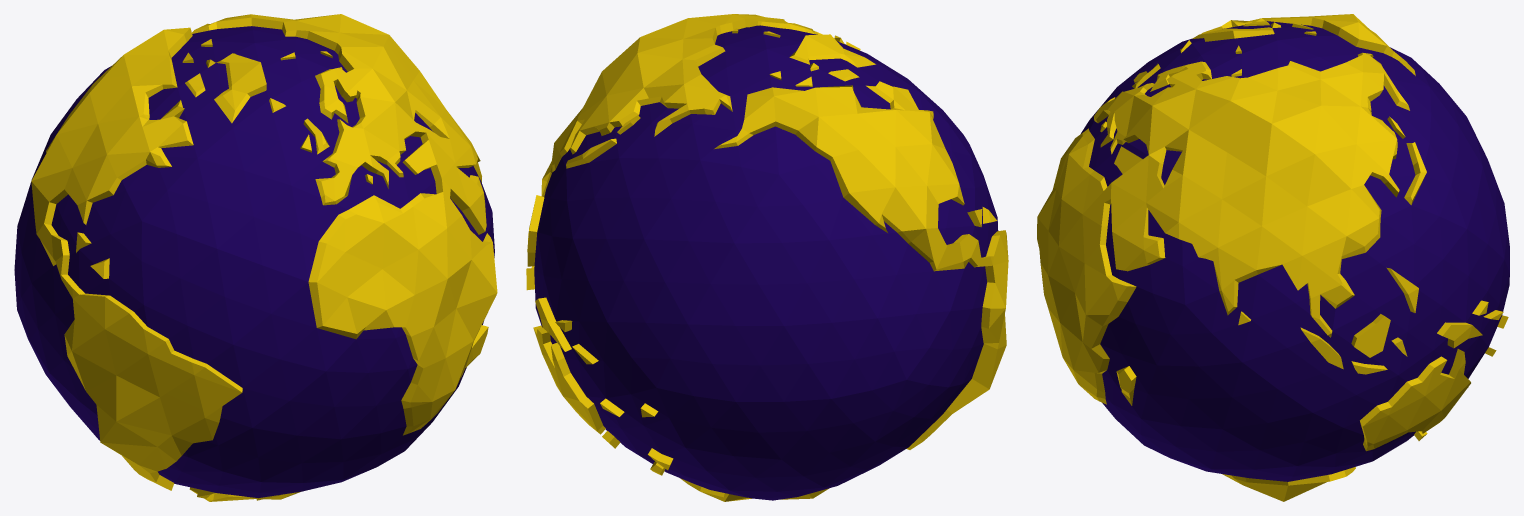
File: earth4.glb
3 views of the same model, side by side, from view 1: azimuth 30°, elevation 25°; view 2: azimuth 150°, elevation 25°; view 3: azimuth 270°, elevation 25° (orthographic). The views are drawn at different scales.
Visible parts, largest first — view 1: earth4; view 2: earth4; view 3: earth4.
Boxes of the visible parts, <box> form: earth4: <box>14,14,497,501</box>; earth4: <box>526,14,1008,501</box>; earth4: <box>1037,14,1509,501</box>.
Bounding box in the file's own units: 0.1733 × 0.1794 × 0.1729.
